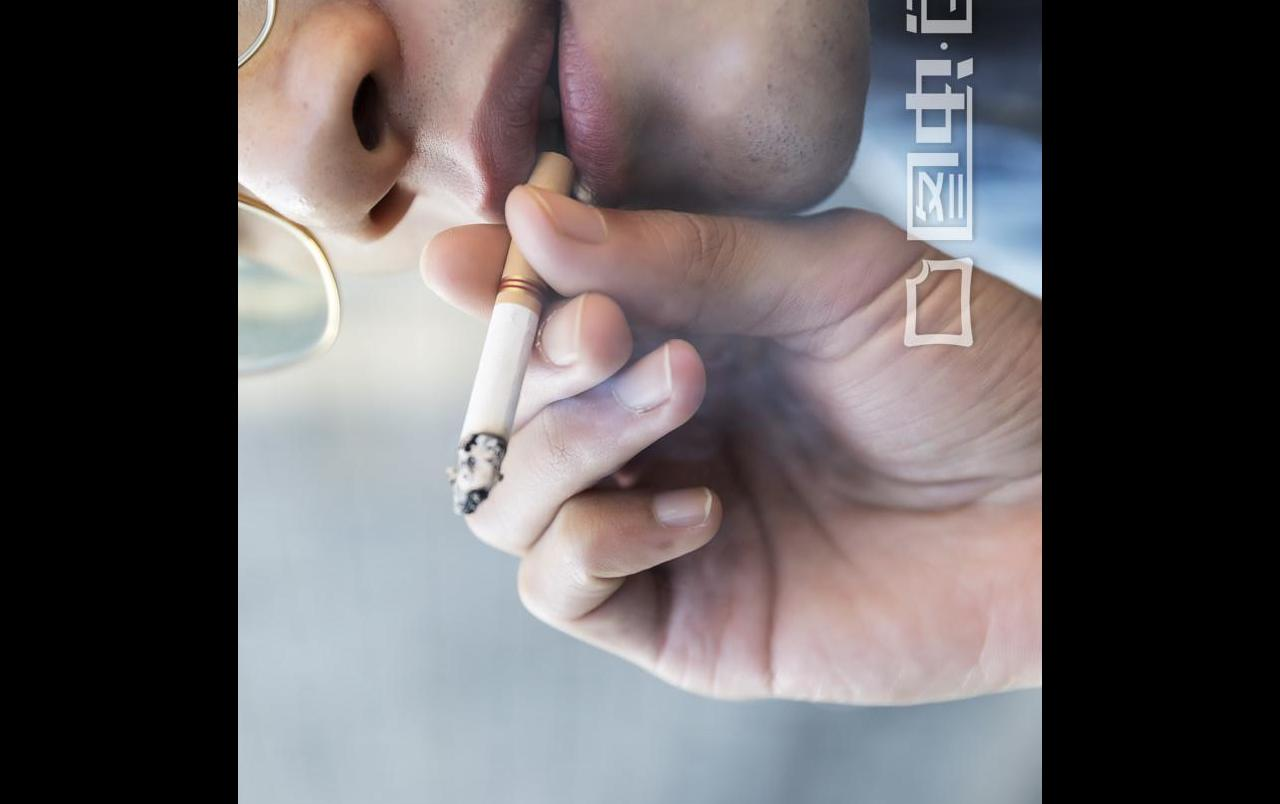Cigarette: (450, 149, 577, 518)
